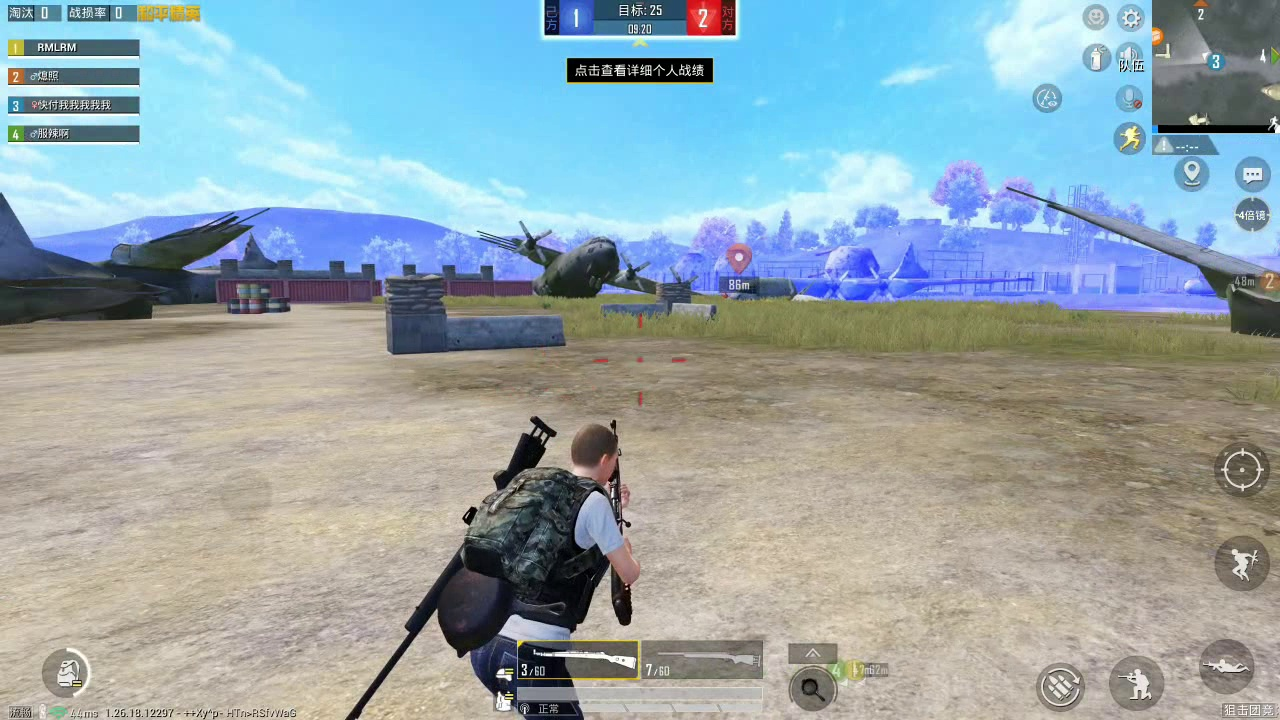enemy: (720, 289, 730, 299)
